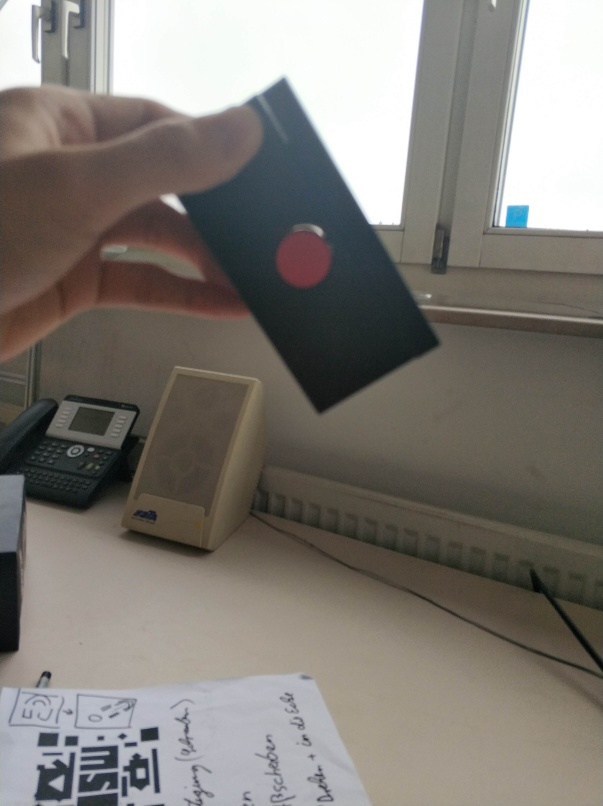black+black+red: (171, 70, 447, 421)
